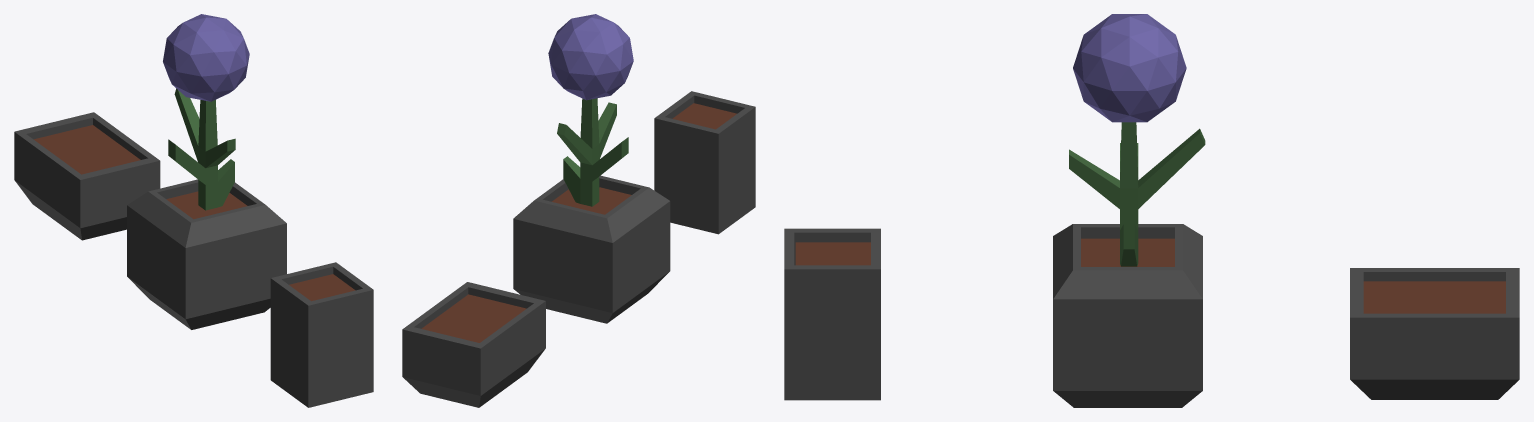
Rendered from plant1.fbx.
3 views of the same model, side by side, from view 1: azimuth 30°, elevation 25°; view 2: azimuth 150°, elevation 25°; view 3: azimuth 270°, elevation 25° (orthographic). The views are drawn at different scales.
Visible parts, largest first — view 1: Pot1, Pot 3, Pot2, Flower, Plant1, Dirt.001, Dirt.002, Dirt; view 2: Pot1, Pot 3, Pot2, Flower, Plant1, Dirt.001, Dirt.002, Dirt; view 3: Pot1, Pot2, Pot 3, Flower, Plant1, Dirt.001, Dirt, Dirt.002.
Boxes of the visible parts, x1,y1,x2,y2 form: Pot1: [127, 179, 286, 329]; Pot 3: [270, 262, 373, 407]; Pot2: [14, 112, 160, 240]; Flower: [163, 14, 249, 101]; Plant1: [168, 88, 235, 210]; Dirt.001: [34, 125, 140, 174]; Dirt.002: [289, 274, 355, 301]; Dirt: [166, 191, 247, 219]; Pot1: [513, 175, 670, 323]; Pot 3: [654, 91, 755, 234]; Pot2: [402, 282, 545, 407]; Flower: [548, 14, 633, 100]; Plant1: [557, 98, 628, 206]; Dirt.001: [421, 294, 526, 342]; Dirt.002: [672, 103, 736, 129]; Dirt: [552, 187, 631, 214]; Pot1: [1053, 224, 1202, 407]; Pot2: [1350, 268, 1519, 399]; Pot 3: [784, 228, 880, 400]; Flower: [1073, 14, 1186, 122]; Plant1: [1069, 122, 1205, 266]; Dirt.001: [1363, 281, 1505, 313]; Dirt: [1081, 238, 1174, 266]; Dirt.002: [795, 242, 870, 265].
Size of the model in its own units: 190 by 515 by 930.
